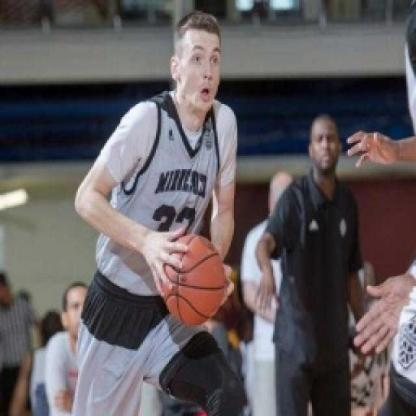basketball: (160, 234, 230, 329)
